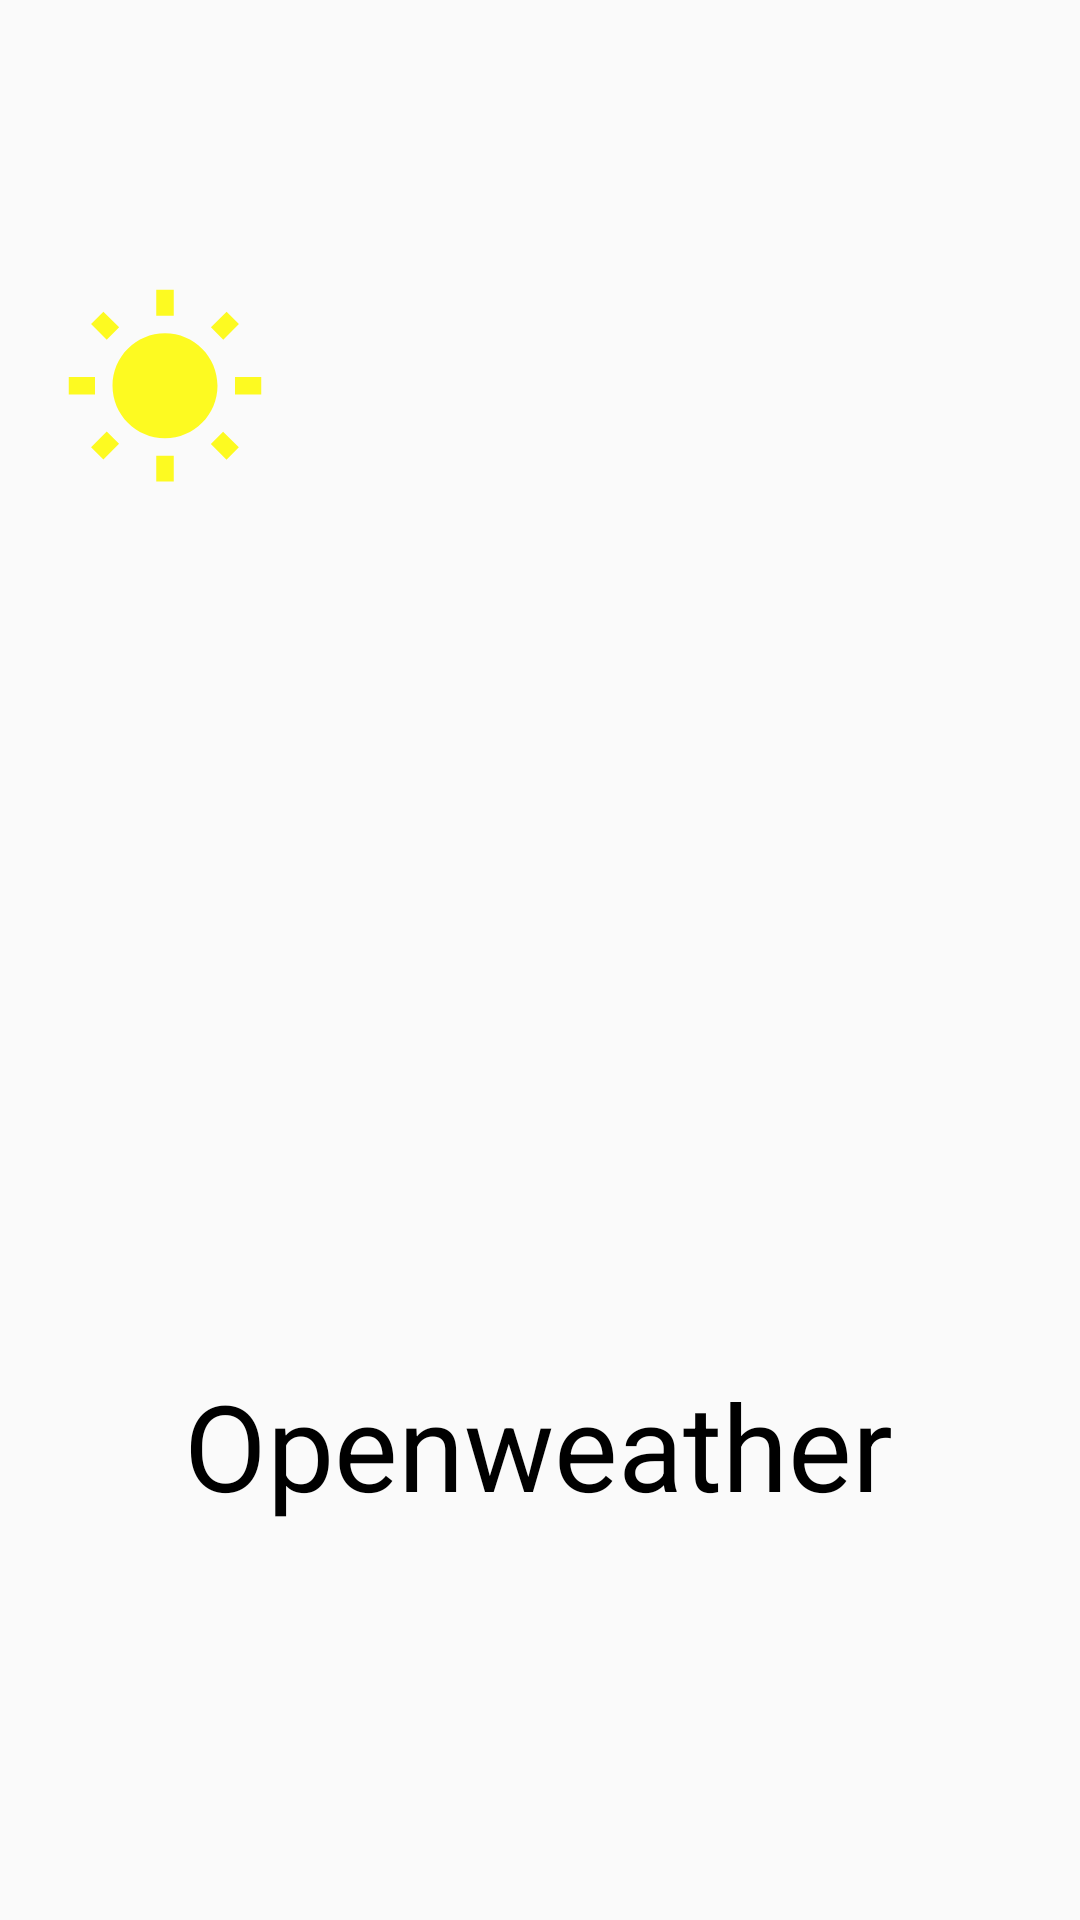

Screen size 1080px×1920px. Icon name, then its box in pixels as (x1, y1, x2, y2):
sunny: (68, 289, 262, 482)
